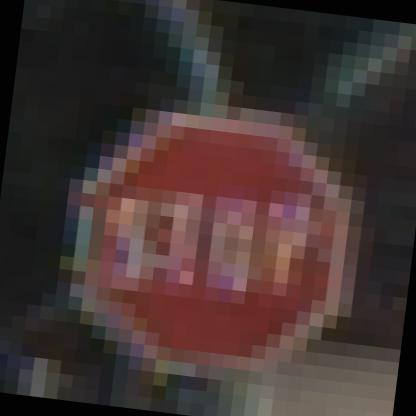stop: (35, 106, 397, 396)
